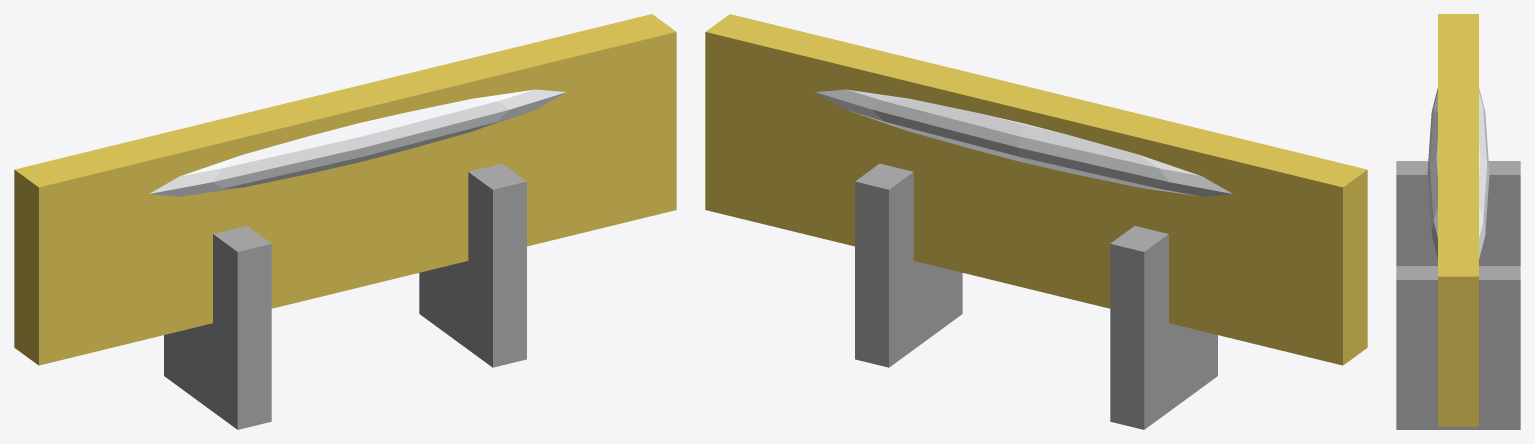
The model's file is snow_roadblock.glb.
The picture shows the model from 3 angles, left to right: view 1: azimuth 30°, elevation 25°; view 2: azimuth 150°, elevation 25°; view 3: azimuth 270°, elevation 25°; orthographic projection. The views are drawn at different scales.
Parts seen in each view (by area): view 1: barrier, leg1, leg2, snow; view 2: barrier, leg1, leg2, snow; view 3: barrier, leg2, leg1, snow.
Part boxes in pixels (x1,y1,x2,y2): barrier: (14, 14, 676, 365); leg1: (164, 226, 271, 429); leg2: (419, 163, 526, 367); snow: (149, 89, 566, 196); barrier: (705, 14, 1367, 365); leg1: (1110, 226, 1217, 429); leg2: (855, 163, 962, 367); snow: (815, 89, 1232, 196); barrier: (1438, 14, 1478, 426); leg2: (1396, 266, 1520, 429); leg1: (1396, 161, 1520, 265); snow: (1427, 88, 1489, 258).
Bounding box in the file's own units: 3 × 1.2 × 0.6001.
